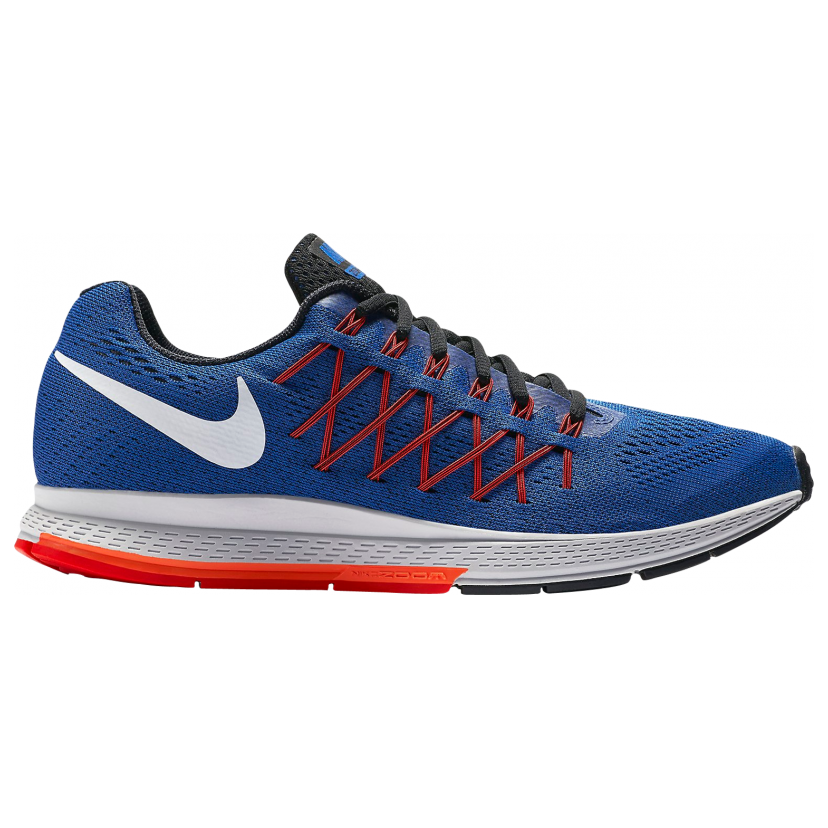Nike: (49, 343, 269, 478)
